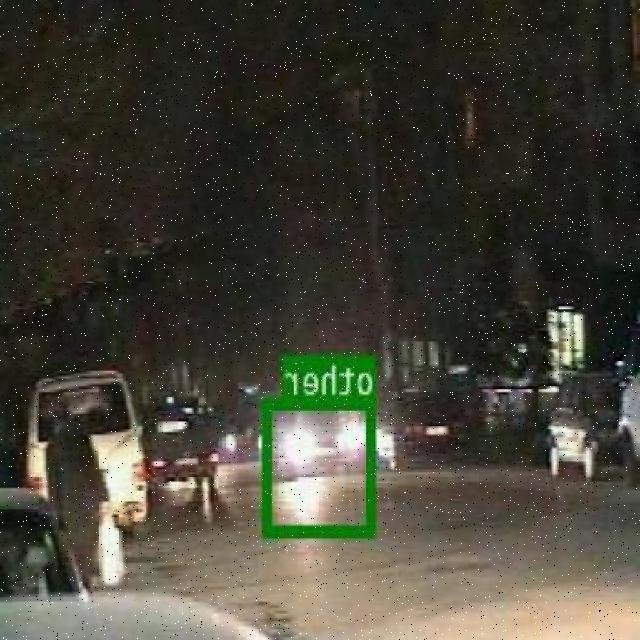other: (265, 396, 378, 535)
